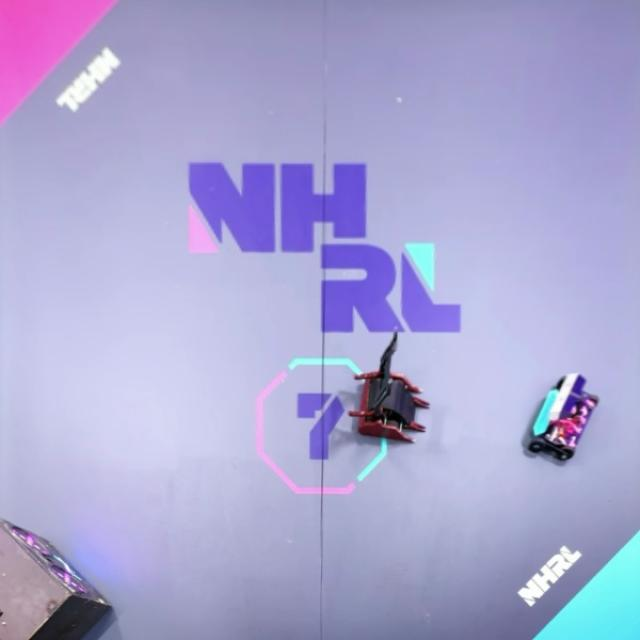housebot: (0, 516, 113, 640)
robot: (349, 332, 432, 444), (525, 372, 601, 463)
